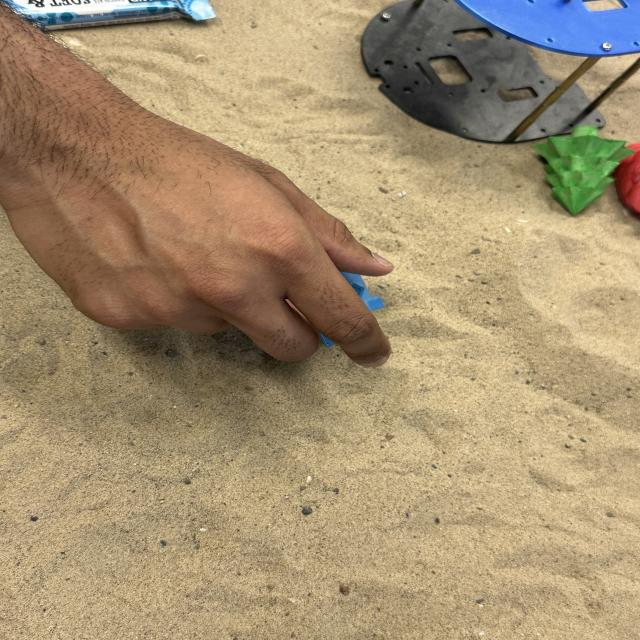tree: (530, 125, 634, 216)
